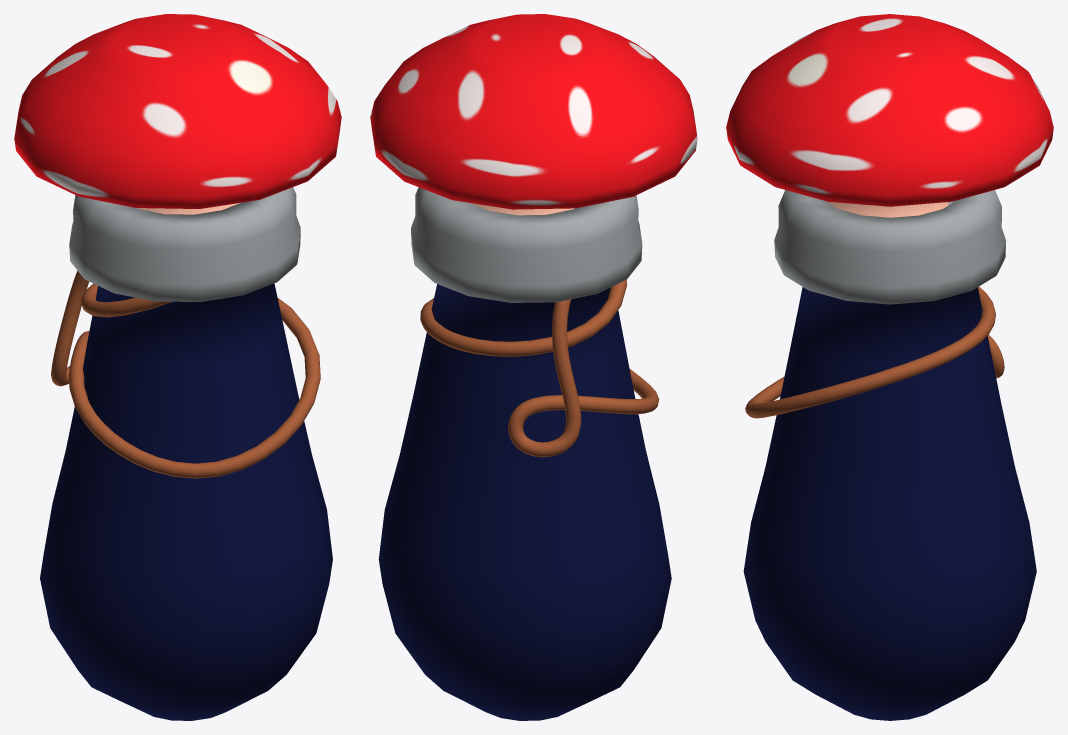
File: item1.fbx
3 views of the same model, side by side, from view 1: azimuth 30°, elevation 25°; view 2: azimuth 150°, elevation 25°; view 3: azimuth 270°, elevation 25° (orthographic).
Visible parts, largest first — view 1: Curva NURBS; view 2: Curva NURBS; view 3: Curva NURBS.
Part boxes in pixels (box(x1,y1,x2,y2)): Curva NURBS: box(14, 14, 341, 720); Curva NURBS: box(370, 14, 697, 720); Curva NURBS: box(726, 14, 1053, 720).
Bounding box in the file's own units: 130 × 289 × 130.
